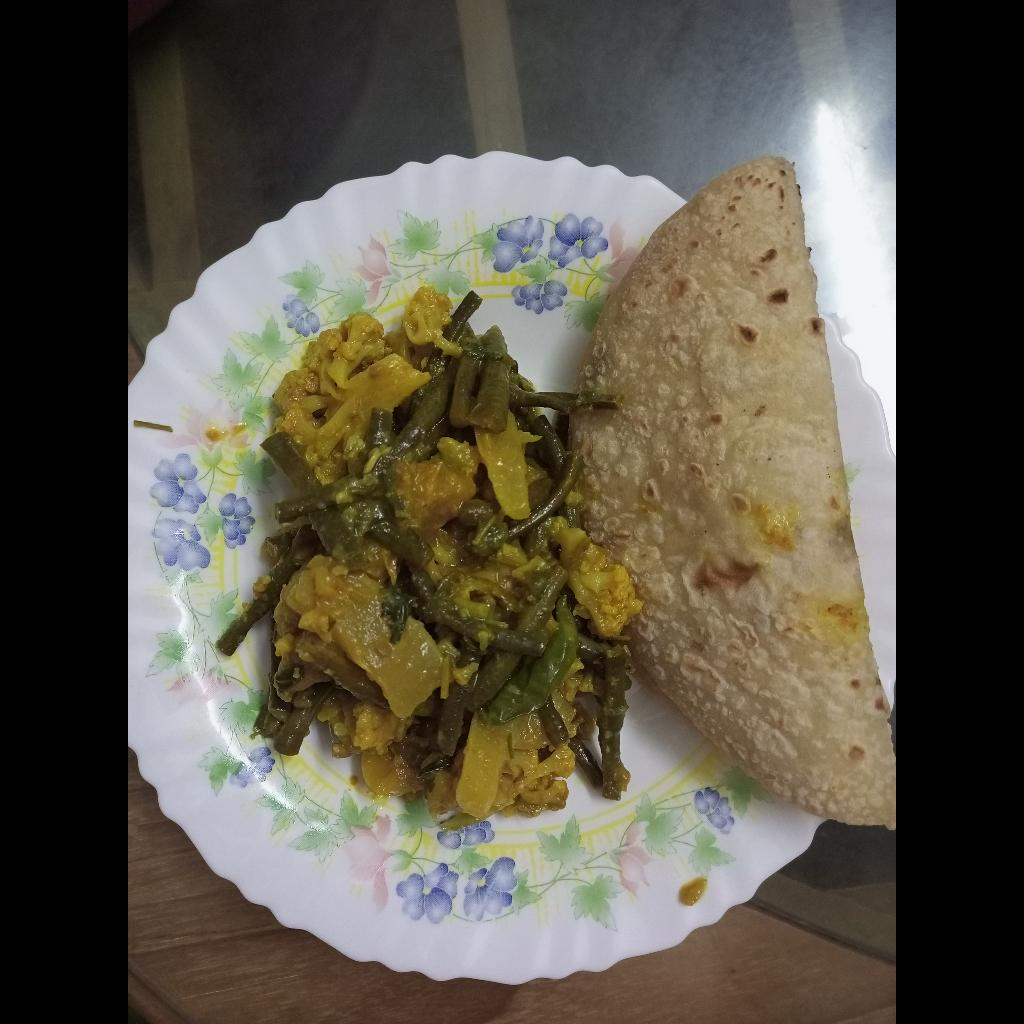cauliflower: (271, 291, 445, 477)
khichuri: (216, 278, 635, 841)
ruti: (573, 151, 895, 830)
